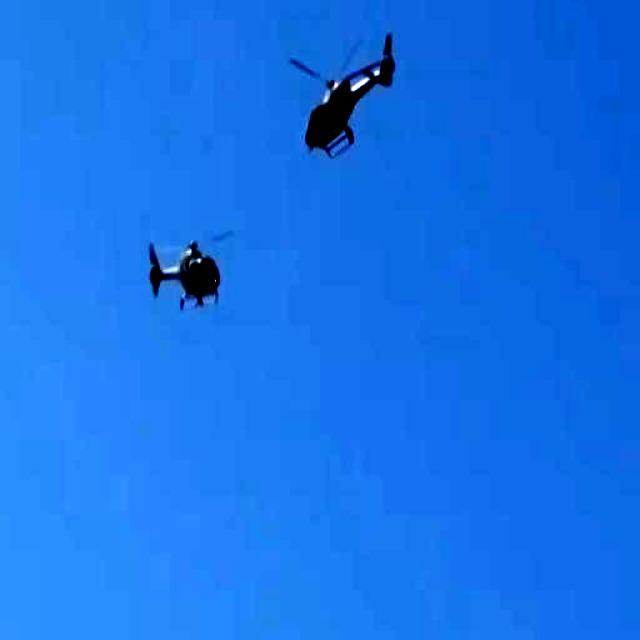drone: (290, 39, 400, 166), (149, 222, 228, 311)
